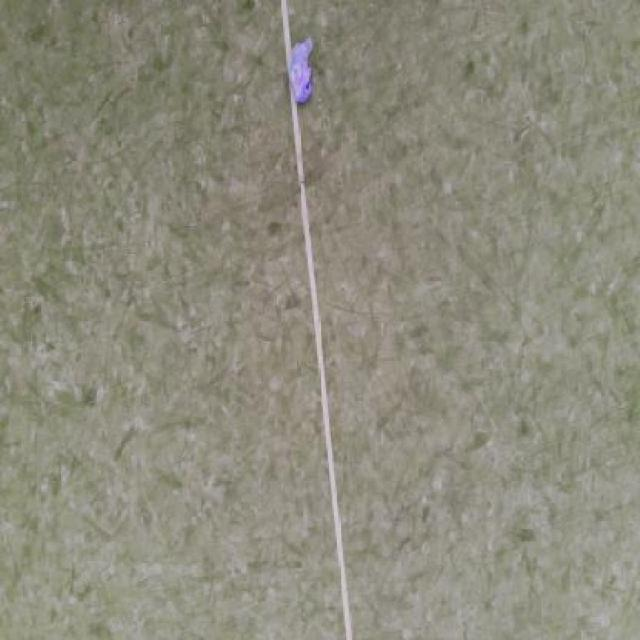Garbage: (288, 37, 314, 103)
